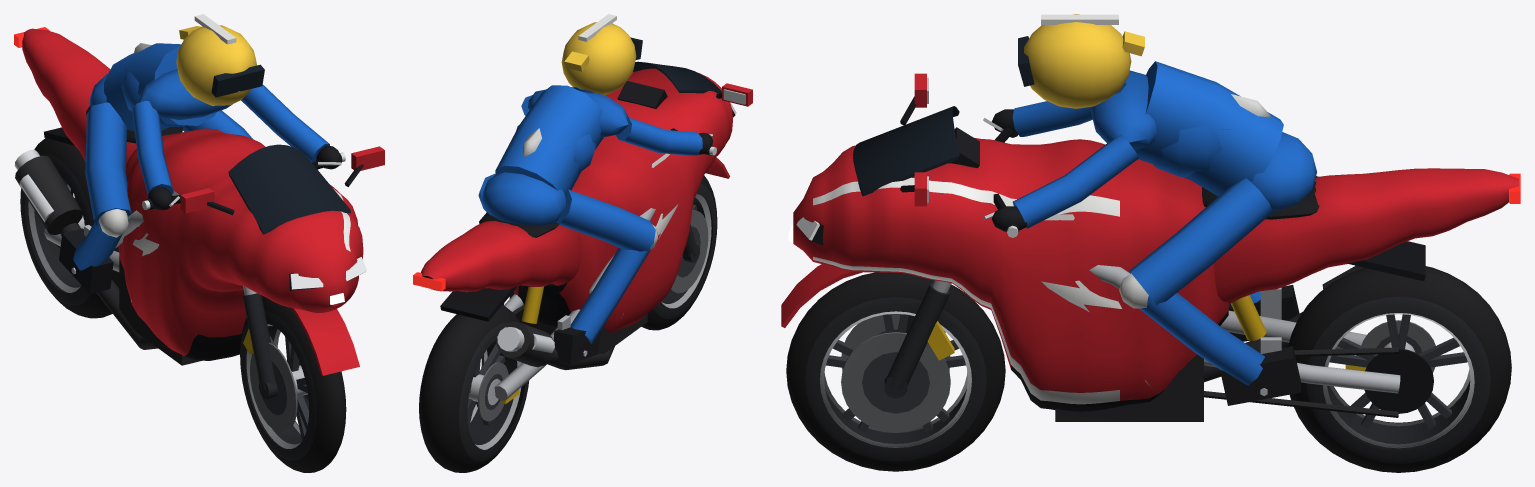
File: bike.glb
3 renders of one model, left to right at view 1: azimuth 30°, elevation 25°; view 2: azimuth 150°, elevation 25°; view 3: azimuth 270°, elevation 25°, orthographic. The views are drawn at different scales.
Visible parts, largest first — view 1: body, wheel_FL, wheel_RL, fork_FL; view 2: body, wheel_RL, wheel_FL, fork_FL; view 3: body, wheel_RL, wheel_FL, fork_FL.
Part boxes in pixels (x1,y1,x2,y2): body: (14, 14, 384, 365); wheel_FL: (240, 296, 346, 472); wheel_RL: (20, 138, 119, 318); fork_FL: (233, 286, 359, 399); body: (413, 14, 752, 400); wheel_RL: (419, 305, 529, 472); wheel_FL: (641, 175, 717, 330); fork_FL: (683, 157, 729, 262); body: (788, 14, 1520, 421); wheel_RL: (1288, 266, 1511, 472); wheel_FL: (786, 272, 1005, 471); fork_FL: (781, 264, 951, 398).
Size of the model in its own units: 0.77 by 1.41 by 2.09.
